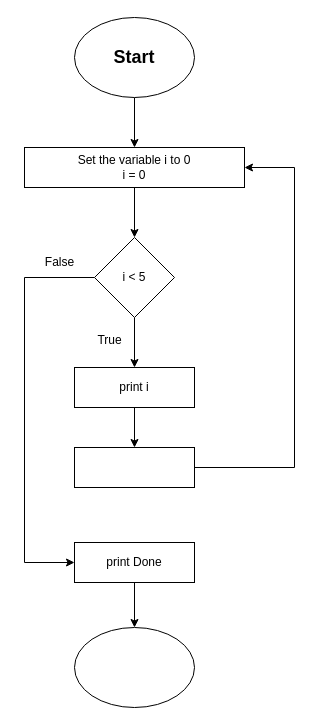
Image size: 320x725. Some labels were removed from this diagram. Here are the shapes that lost their labels. From the top down, the centre of each, then its label:
At [134,467]: "Increase i by 1 i = i +1".
At [134,667]: "End".
